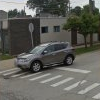crosswalk: (0, 66, 100, 99)
